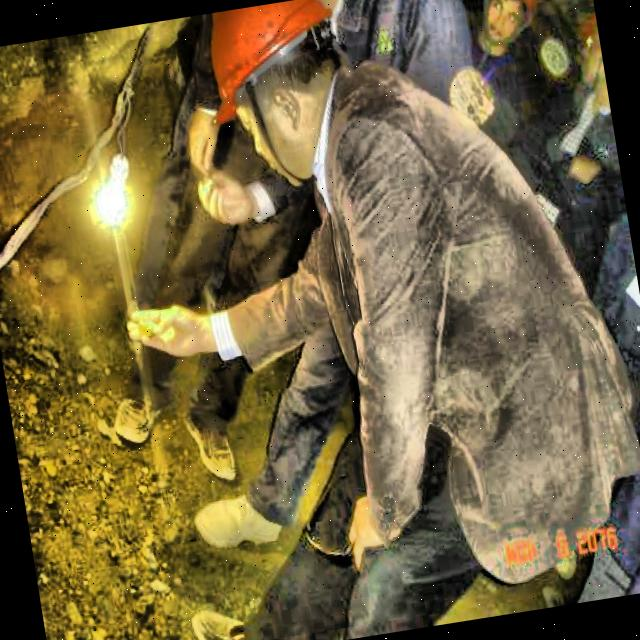helmet: (180, 0, 368, 195), (467, 0, 553, 60)
